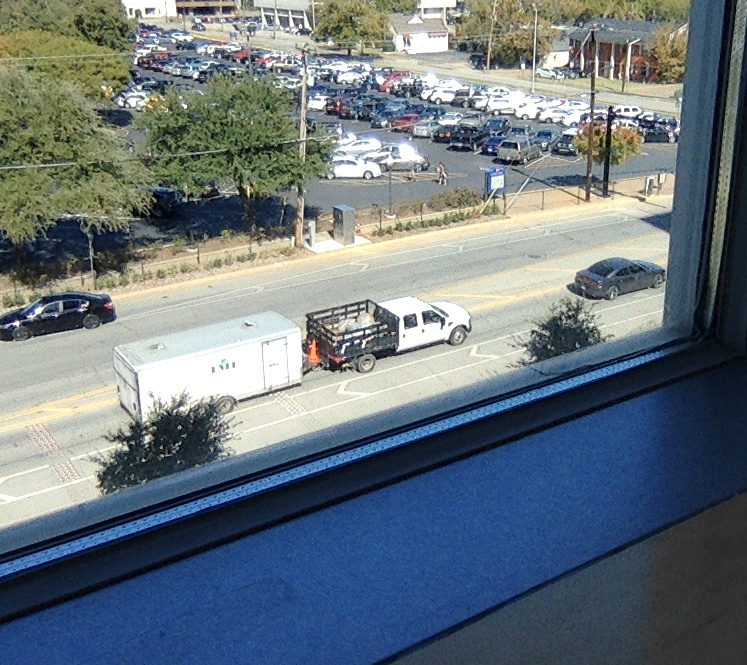car: (300, 300, 447, 377)
